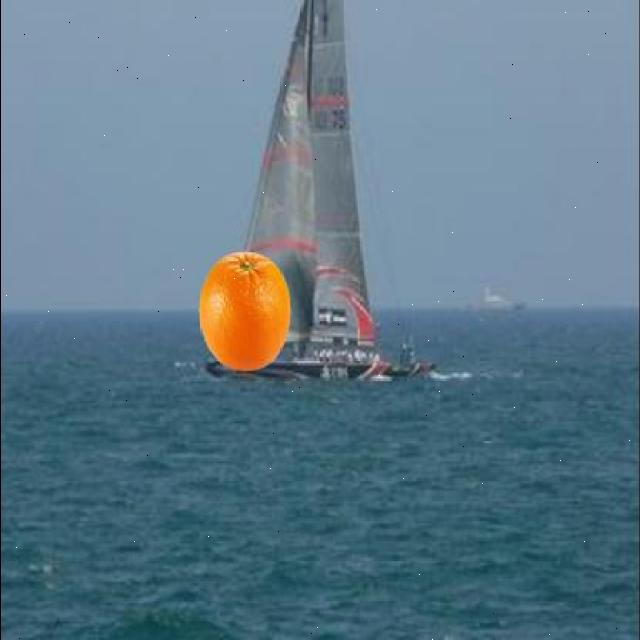Orange: (196, 249, 292, 371)
